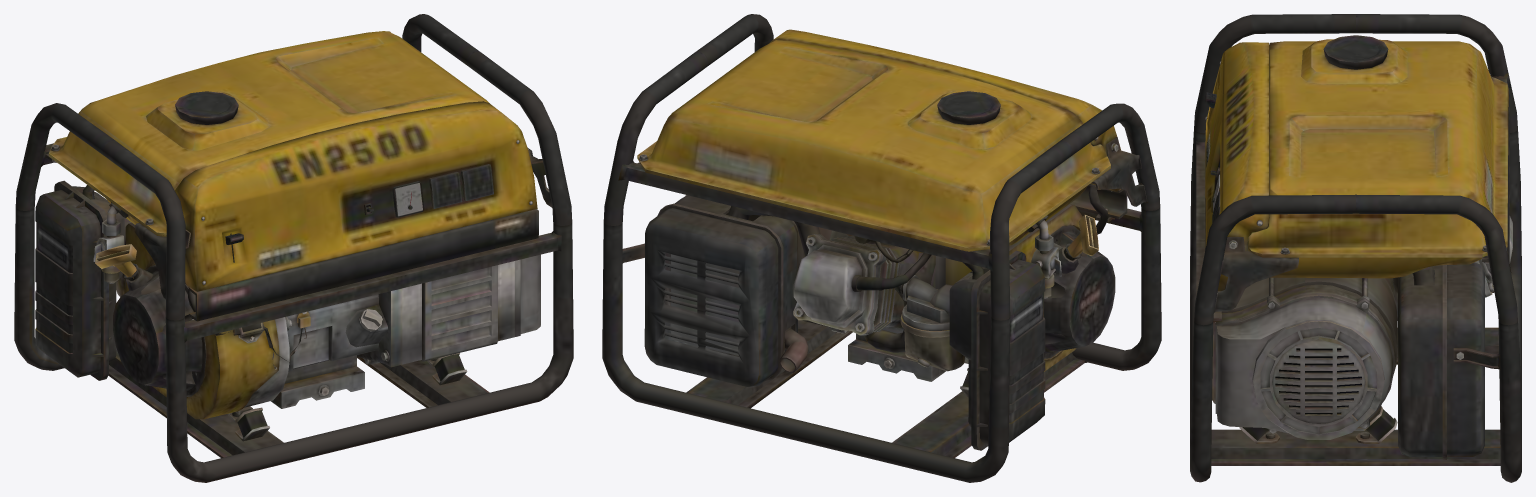
The model's file is generator.glb.
3 renders of one model, left to right at view 1: azimuth 30°, elevation 25°; view 2: azimuth 150°, elevation 25°; view 3: azimuth 270°, elevation 25°, orthographic.
Parts seen in each view (by area): view 1: portable_generator; view 2: portable_generator; view 3: portable_generator.
Part boxes in pixels (x1,y1,x2,y2): portable_generator: [14, 14, 573, 482]; portable_generator: [602, 14, 1161, 482]; portable_generator: [1190, 14, 1521, 482].
Size of the model in its own units: 0.8169 by 0.5752 by 0.564.
Materials: 2 (2 with a texture image).
